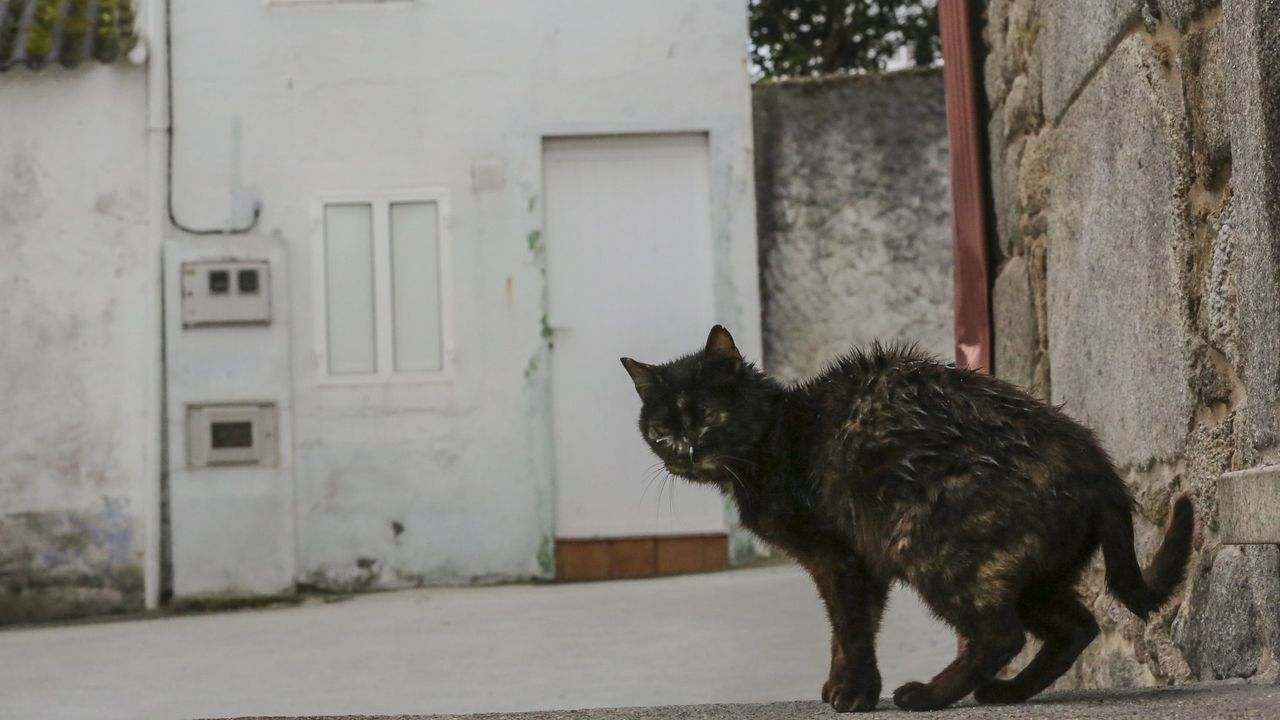cat: (616, 322, 1221, 714)
